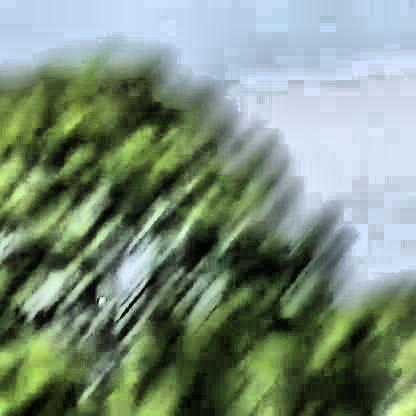golfball: (95, 291, 102, 301)
